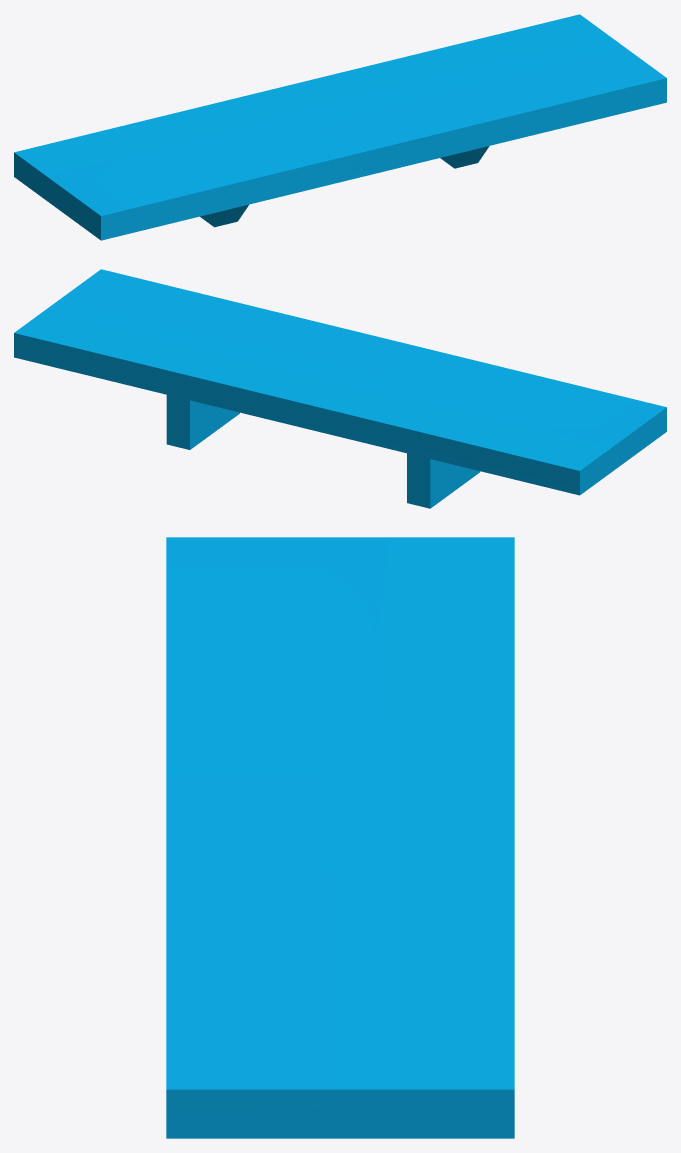
The model's file is shelf_023.glb.
3 views of the same model, one above another, from view 1: azimuth 30°, elevation 25°; view 2: azimuth 150°, elevation 25°; view 3: azimuth 270°, elevation 25° (orthographic). The views are drawn at different scales.
Visible parts, largest first — view 1: shelf_023; view 2: shelf_023; view 3: shelf_023.
Boxes of the visible parts, bbox=[...] form: shelf_023: bbox=[14, 14, 666, 240]; shelf_023: bbox=[14, 269, 666, 508]; shelf_023: bbox=[166, 537, 514, 1138].
Bounding box in the file's own units: 0.7501 × 0.0948 × 0.2.
1 material, 1 textured.
